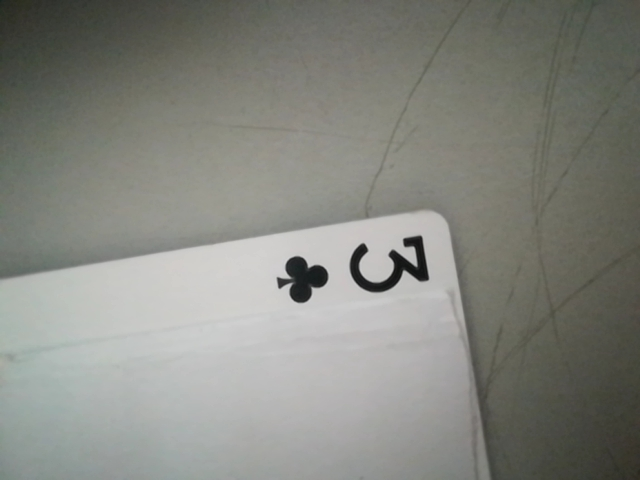mh 3: (267, 223, 443, 312)
